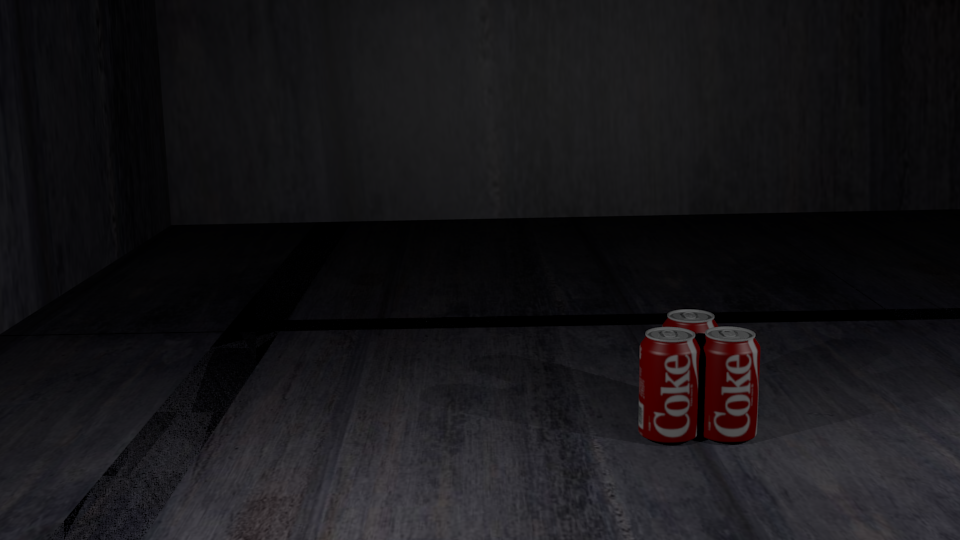cola_can: (639, 327, 699, 439), (699, 327, 759, 438), (663, 310, 718, 416)
